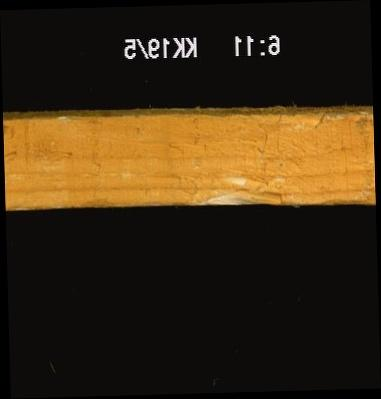wave: (193, 169, 291, 205)
